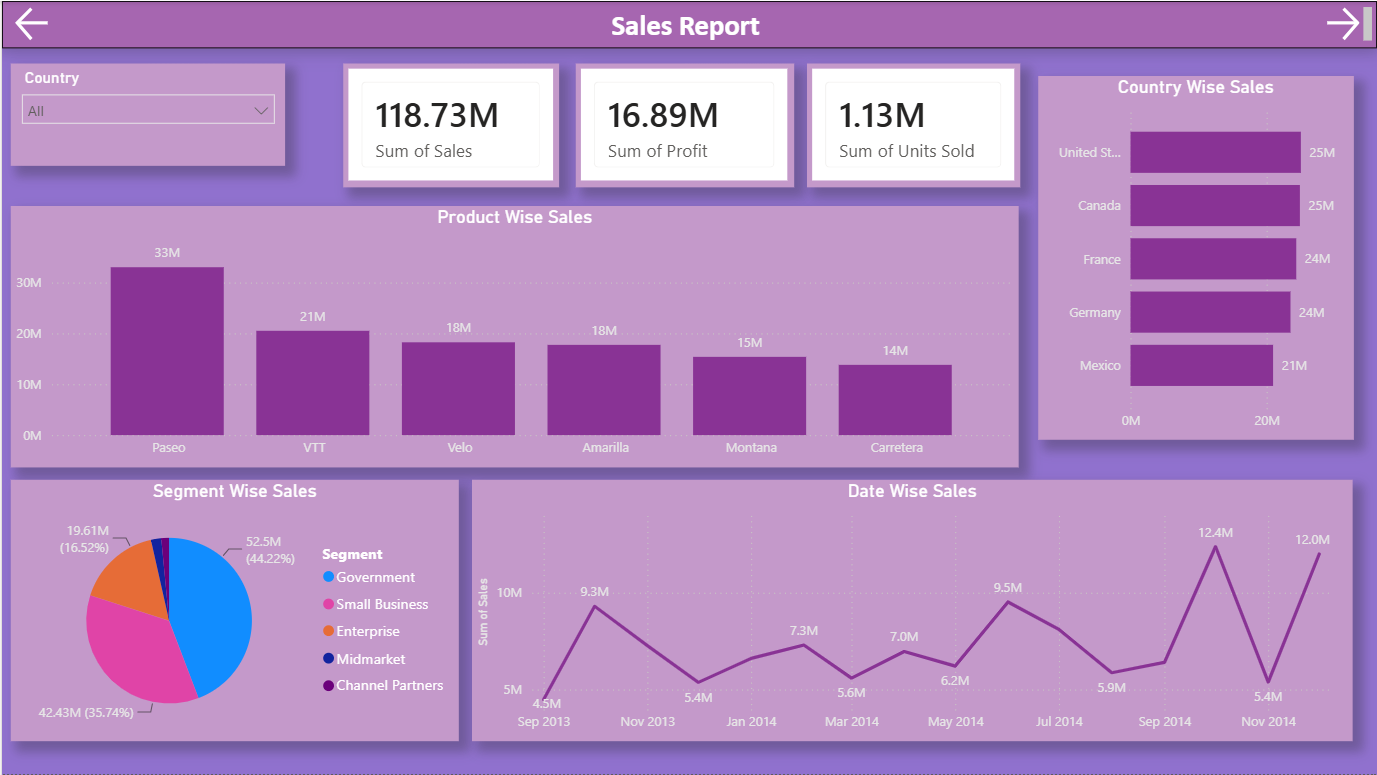

This screenshot's page, from the dashboard's own definition file:
{"tool":"powerbi","page":{"name":"Sales Report","canvas":[1280,720],"ordinal":1},"visuals":[{"type":"textbox","box":[0,0,1280.3,44],"z":0},{"type":"slicer","fields":{"Values":["financials.Country"]},"box":[8.6,58.7,255.6,95.4],"z":1000},{"type":"cardVisual","fields":{"Data":["Sum(financials. Sales)"]},"box":[317.9,58.7,200.5,114.9],"z":2000},{"type":"cardVisual","fields":{"Data":["Sum(financials.Profit)"]},"box":[533.2,58.7,203,114.9],"z":3000},{"type":"cardVisual","fields":{"Data":["Sum(financials.Units Sold)"]},"box":[748.4,58.7,198.1,114.9],"z":4000},{"type":"columnChart","title":"Product Wise Sales","fields":{"Category":["financials.Product"],"Y":["Sum(financials. Sales)"]},"box":[8.6,190.8,937.9,243.3],"z":5000},{"type":"pieChart","title":"Segment Wise Sales","fields":{"Category":["financials.Segment"],"Y":["Sum(financials. Sales)"]},"box":[8.6,445.1,417,243.3],"z":6000},{"type":"barChart","title":"Country Wise Sales","fields":{"Category":["financials.Country"],"Y":["Sum(financials. Sales)"]},"box":[963.6,69.7,293.5,338.7],"z":7000},{"type":"lineChart","title":"Date Wise Sales","fields":{"Category":["financials.Date.Variation.Date Hierarchy.Year","financials.Date.Variation.Date Hierarchy.Quarter","financials.Date.Variation.Date Hierarchy.Month","financials.Date.Variation.Date Hierarchy.Day"],"Y":["Sum(financials. Sales)"]},"box":[437.8,445.1,819.3,243.3],"z":8000},{"type":"actionButton","box":[8.6,1.2,48.9,40.4],"z":9000},{"type":"actionButton","box":[1226.5,1.2,45.2,40.4],"z":10000}]}

Visuals, with their boxes in screenshot pixels (x1, y1, x2, y2), scaled from the page's 1280x720 canvas onto the 1377x775 screenshot:
textbox: (0,0,1376,47)
slicer - financials.Country: (9,63,284,166)
cardVisual - Sum(financials. Sales): (342,63,558,187)
cardVisual - Sum(financials.Profit): (574,63,792,187)
cardVisual - Sum(financials.Units Sold): (805,63,1018,187)
"Product Wise Sales" columnChart: (9,205,1018,467)
"Segment Wise Sales" pieChart: (9,479,458,741)
"Country Wise Sales" barChart: (1037,75,1352,440)
"Date Wise Sales" lineChart: (471,479,1352,741)
actionButton: (9,1,62,45)
actionButton: (1319,1,1368,45)
